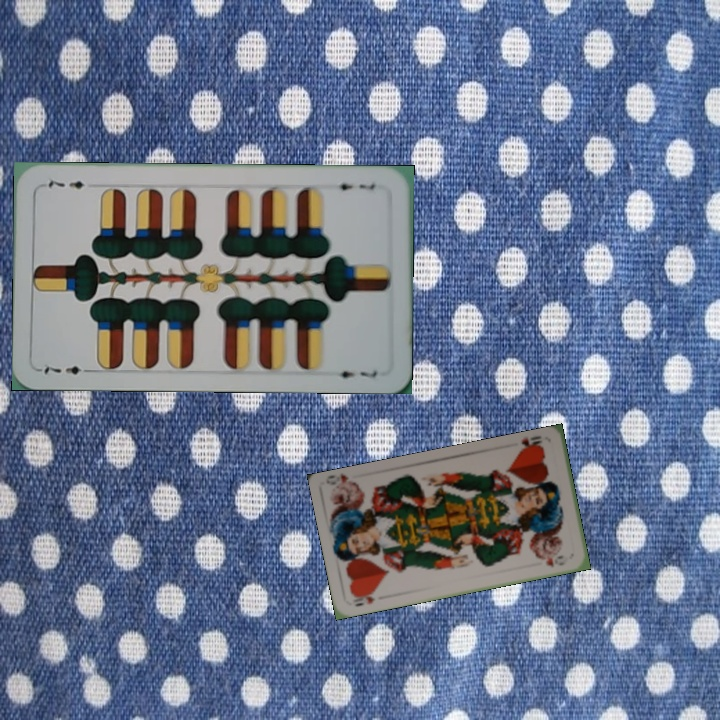E7: (37, 360, 96, 377), (328, 179, 378, 193)
HO: (515, 432, 546, 455), (348, 587, 379, 609)
